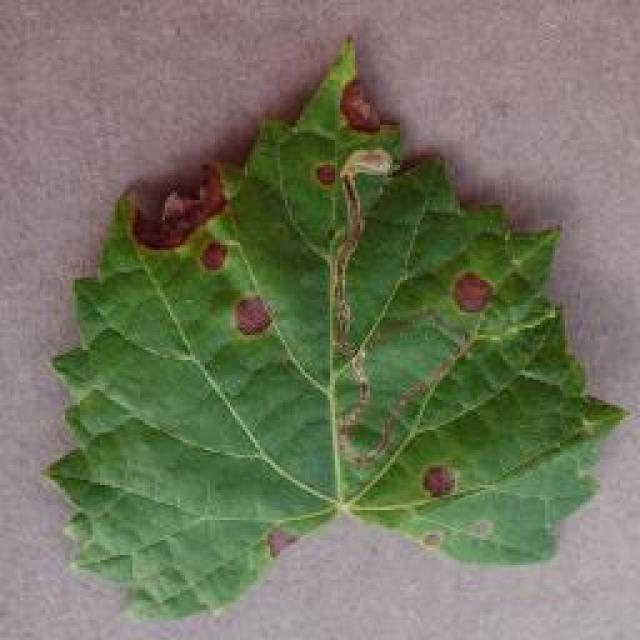Grape___Black_rot: (33, 25, 636, 621)
